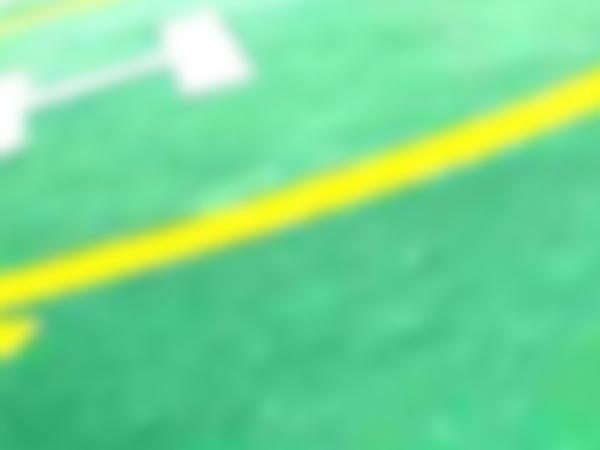Apron: (1, 1, 599, 311)
